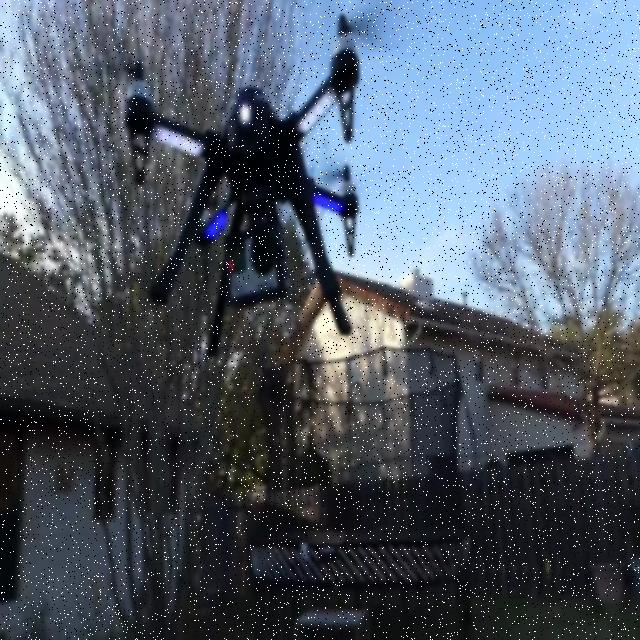UAV: (123, 7, 397, 362)
